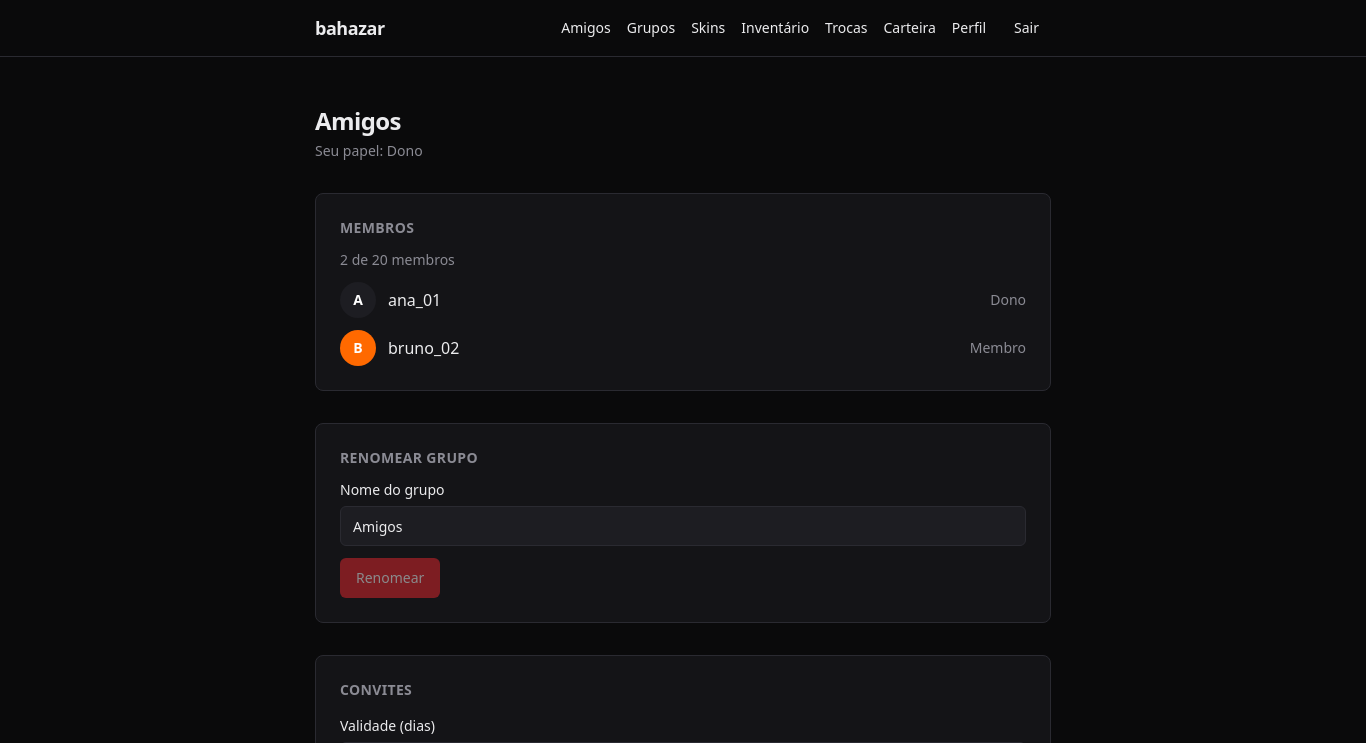
RoomDetailPage › renomear faz PATCH com CSRF e o novo nome aparece no título
This screenshot has width=1366, height=743.
Replace the text in the field labelled "Nome do grupo" with "  Amigos CS ": (683, 526) x1=340 y1=506 x2=1026 y2=546
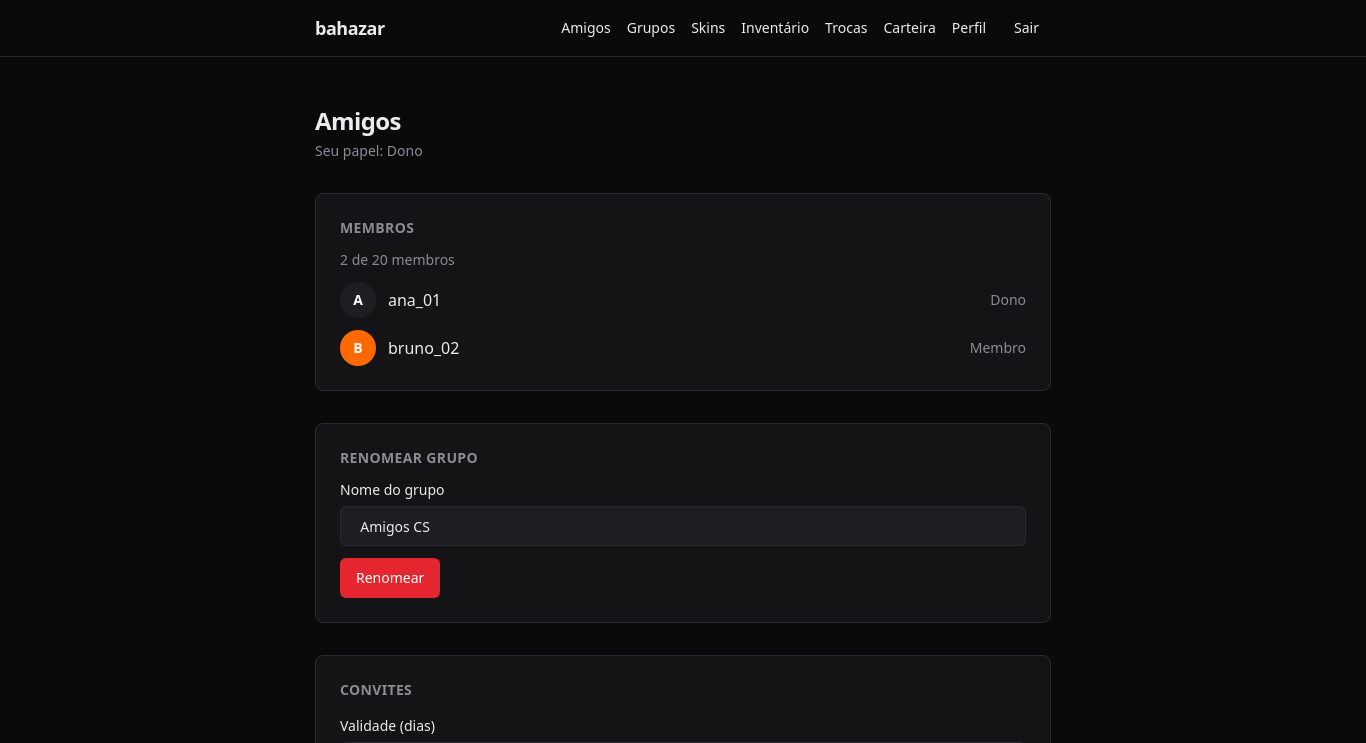
Click the button "Renomear": (390, 578) x1=340 y1=558 x2=440 y2=598
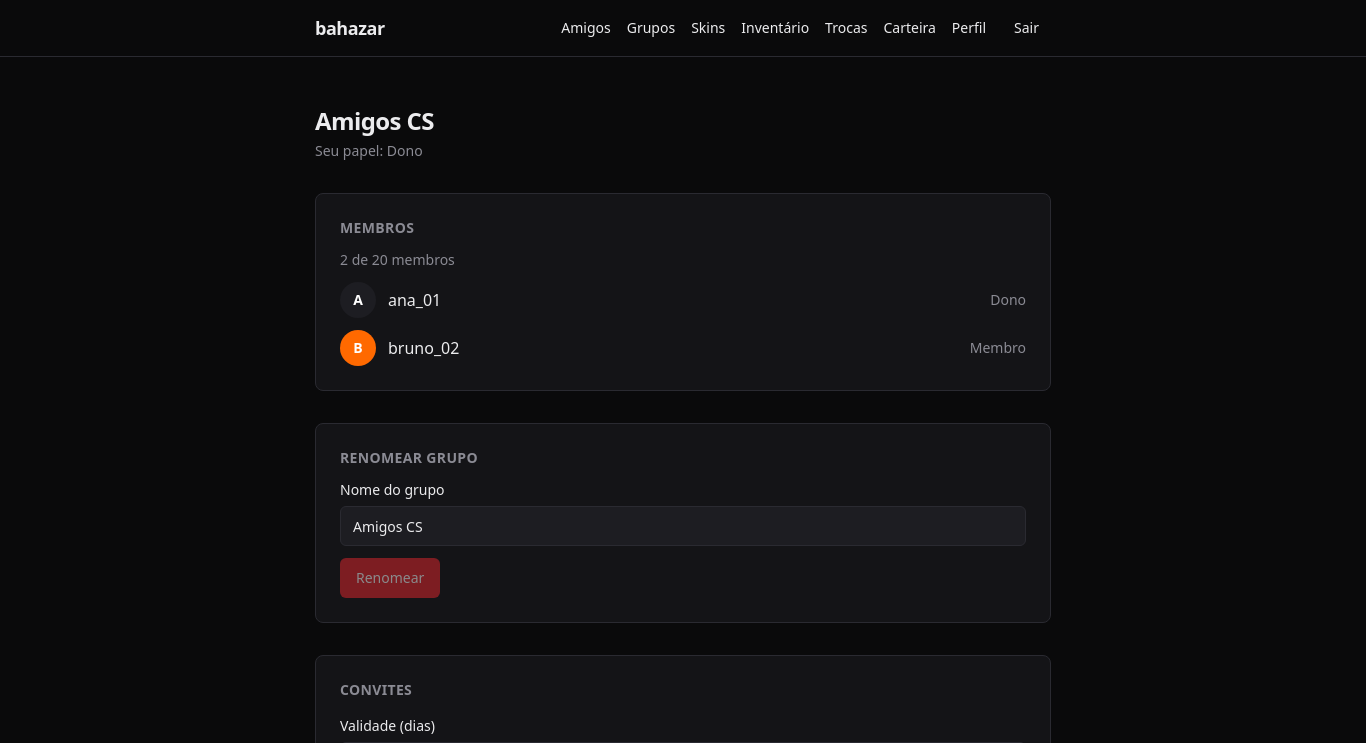
Check: the heading "Amigos CS" is shown, box x1=315 y1=104 x2=434 y2=137
